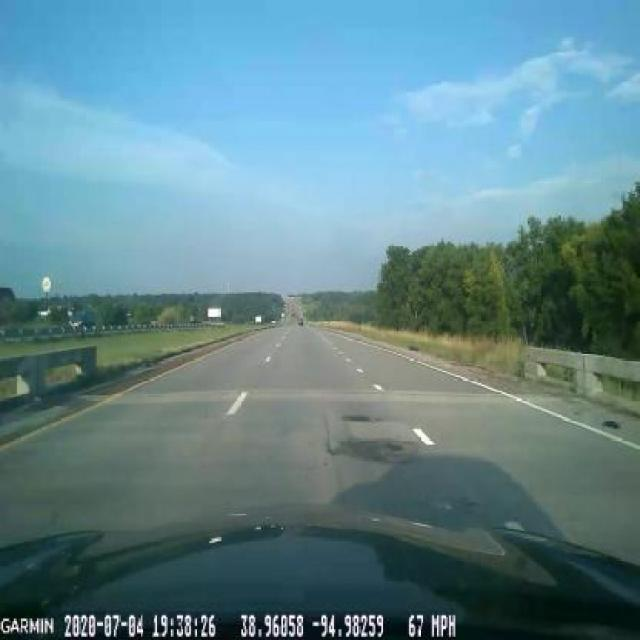pothole: (316, 429, 413, 474), (336, 405, 382, 427)
